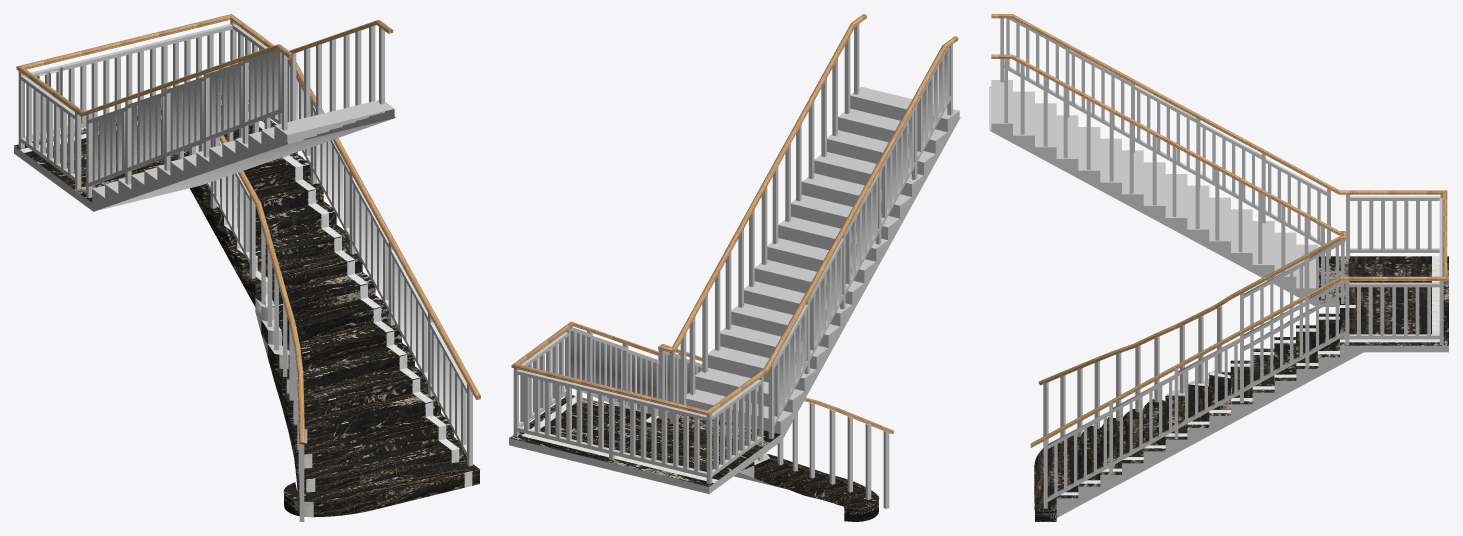
3 views of the same model, side by side, from view 1: azimuth 30°, elevation 25°; view 2: azimuth 150°, elevation 25°; view 3: azimuth 270°, elevation 25° (orthographic). The views are drawn at different scales.
Visible parts, largest first — view 1: Group12_1_1, Group1, Group63, Group55, Group65, Group66, Group43, Group44, Group45, Group58, Group57, Group59 (+16 smaller); view 2: Group12_1_1, Group63, Group1, Group55, Group57, Group58, Group59, Group60, Group61, Group49, Group46, Group45 (+7 smaller); view 3: Group12_1_1, Group1, Group49, Group55, Group44, Group45, Group46, Group43, Group59, Group57, Group58, Group60 (+5 smaller).
Boxes of the visible parts, x1,y1,x2,y2 form: Group12_1_1: (14, 95, 466, 485); Group1: (16, 14, 480, 444); Group63: (19, 24, 232, 142); Group55: (21, 75, 74, 181); Group65: (275, 383, 479, 517); Group66: (283, 459, 480, 515); Group43: (430, 322, 466, 455); Group44: (391, 250, 427, 383); Group45: (352, 178, 388, 310); Group58: (127, 92, 164, 171); Group57: (88, 107, 125, 186); Group59: (166, 77, 203, 156); Group12_1_1: (509, 86, 960, 493); Group63: (517, 369, 706, 477); Group1: (511, 14, 958, 433); Group55: (712, 379, 761, 476); Group57: (774, 304, 807, 426); Group58: (810, 238, 843, 360); Group59: (845, 172, 879, 294); Group60: (881, 107, 914, 228); Group61: (917, 47, 950, 161); Group49: (519, 332, 568, 426); Group46: (592, 336, 626, 408); Group45: (628, 349, 659, 415); Group12_1_1: (989, 80, 1448, 521); Group1: (991, 14, 1447, 447); Group49: (1349, 282, 1439, 339); Group55: (1350, 196, 1440, 252); Group44: (1113, 374, 1174, 465); Group45: (1178, 338, 1239, 428); Group46: (1244, 301, 1305, 391); Group43: (1047, 411, 1109, 501); Group59: (1135, 85, 1196, 175); Group57: (1265, 158, 1326, 245); Group58: (1200, 122, 1261, 209); Group60: (1069, 49, 1130, 138).
Bounding box in the file's own units: 112 × 246 × 244.
Materials: 4 (3 with a texture image).
